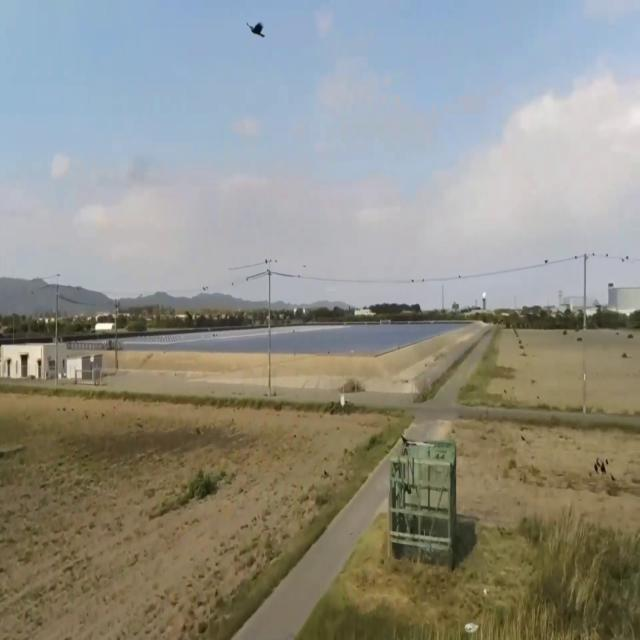bird: (246, 7, 266, 53)
